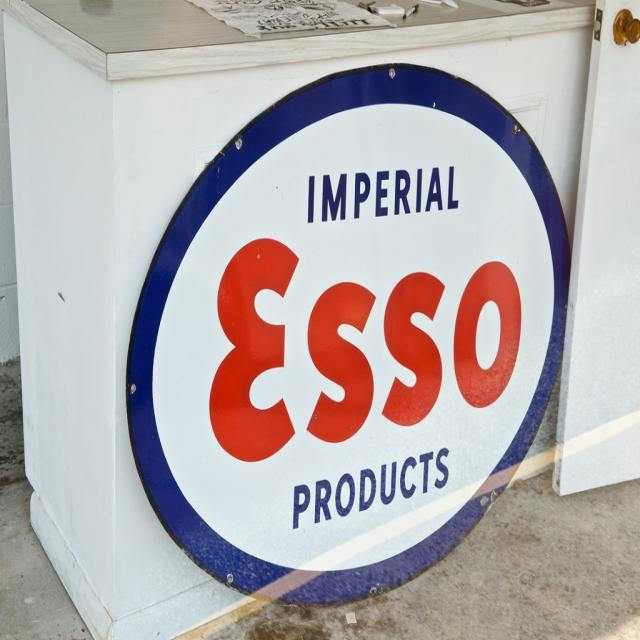esso: (120, 58, 572, 611)
